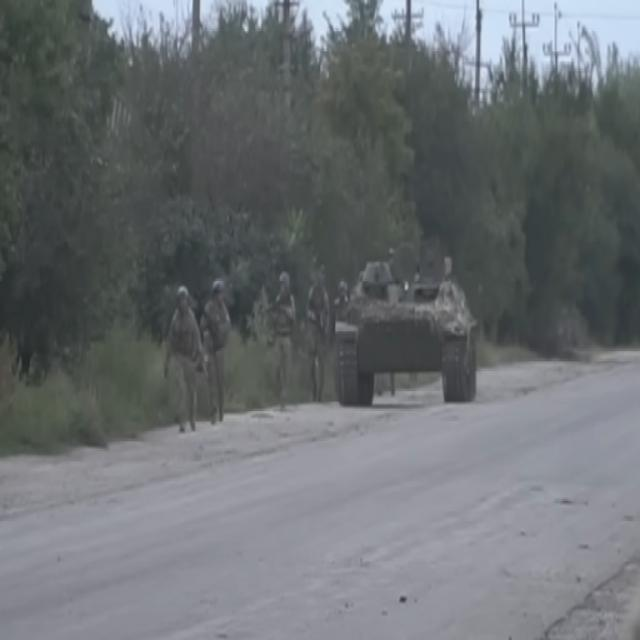APC-IFV: (326, 244, 494, 418)
